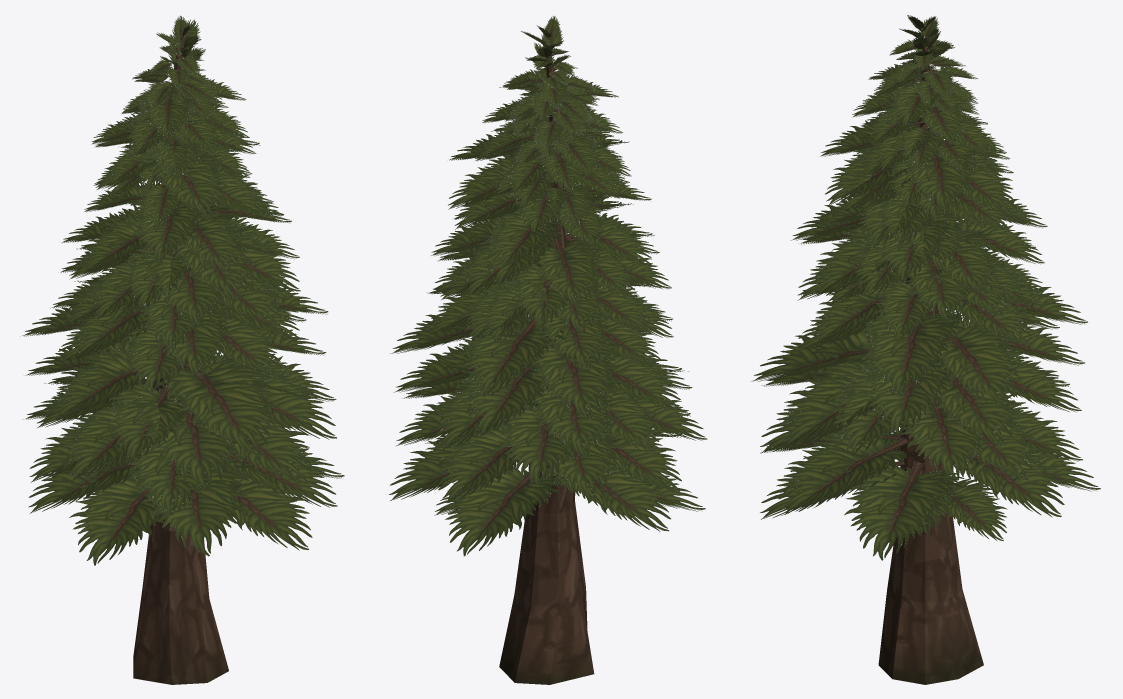
Rendered from hp_tree1.fbx.
3 renders of one model, left to right at view 1: azimuth 30°, elevation 25°; view 2: azimuth 150°, elevation 25°; view 3: azimuth 270°, elevation 25°, orthographic.
Visible parts, largest first — view 1: Plane.158; view 2: Plane.158; view 3: Plane.158.
Part boxes in pixels (bbox=[...]): Plane.158: bbox=[20, 15, 344, 684]; Plane.158: bbox=[389, 16, 707, 684]; Plane.158: bbox=[751, 15, 1100, 684].
Size of the model in its own units: 564 by 1180 by 602.
